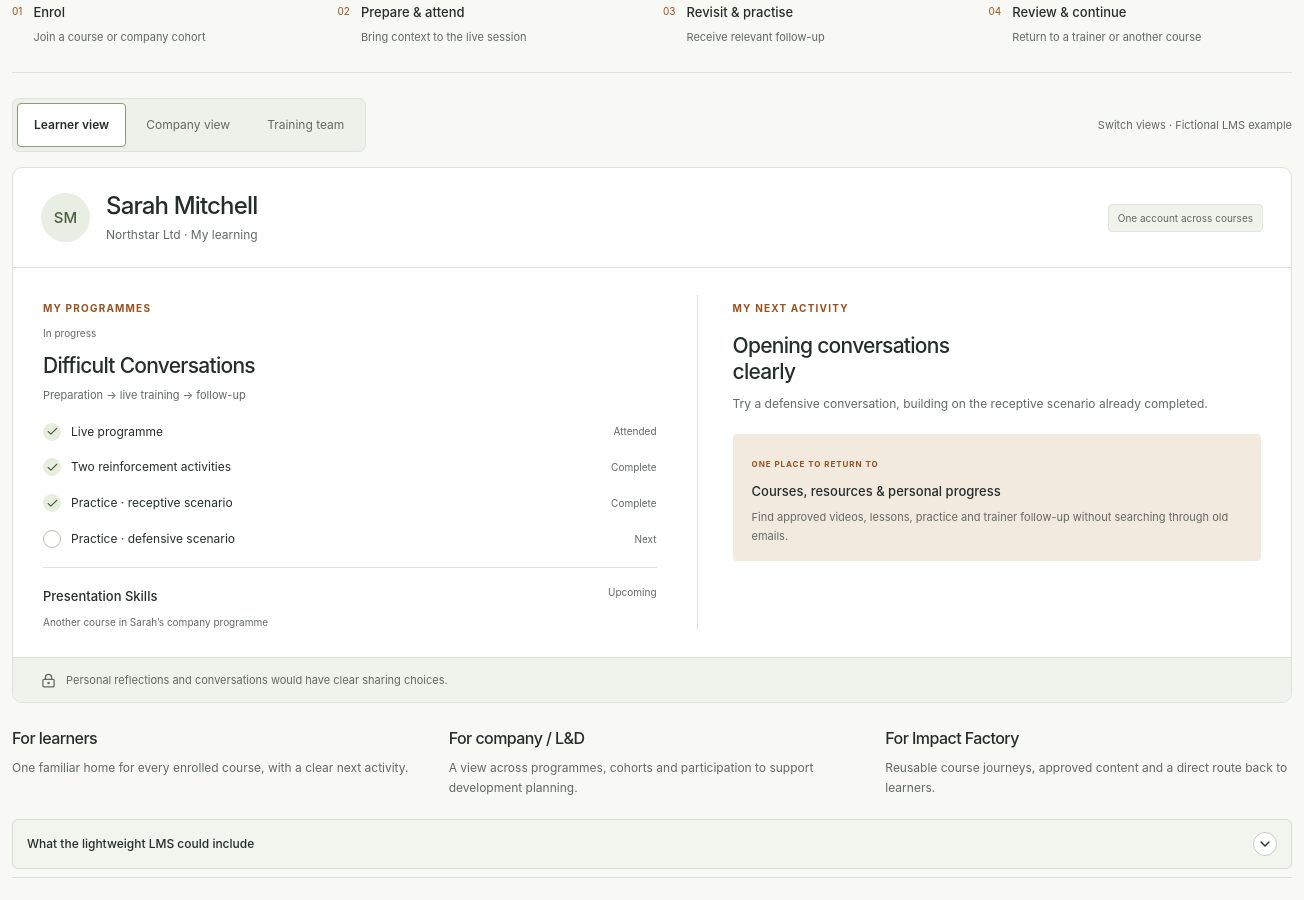
Scenario: filters company participation across programmes without treating enrolments as unique learners
Click the tab "Company view" at coordinates (188, 125), box [129,103,247,147]
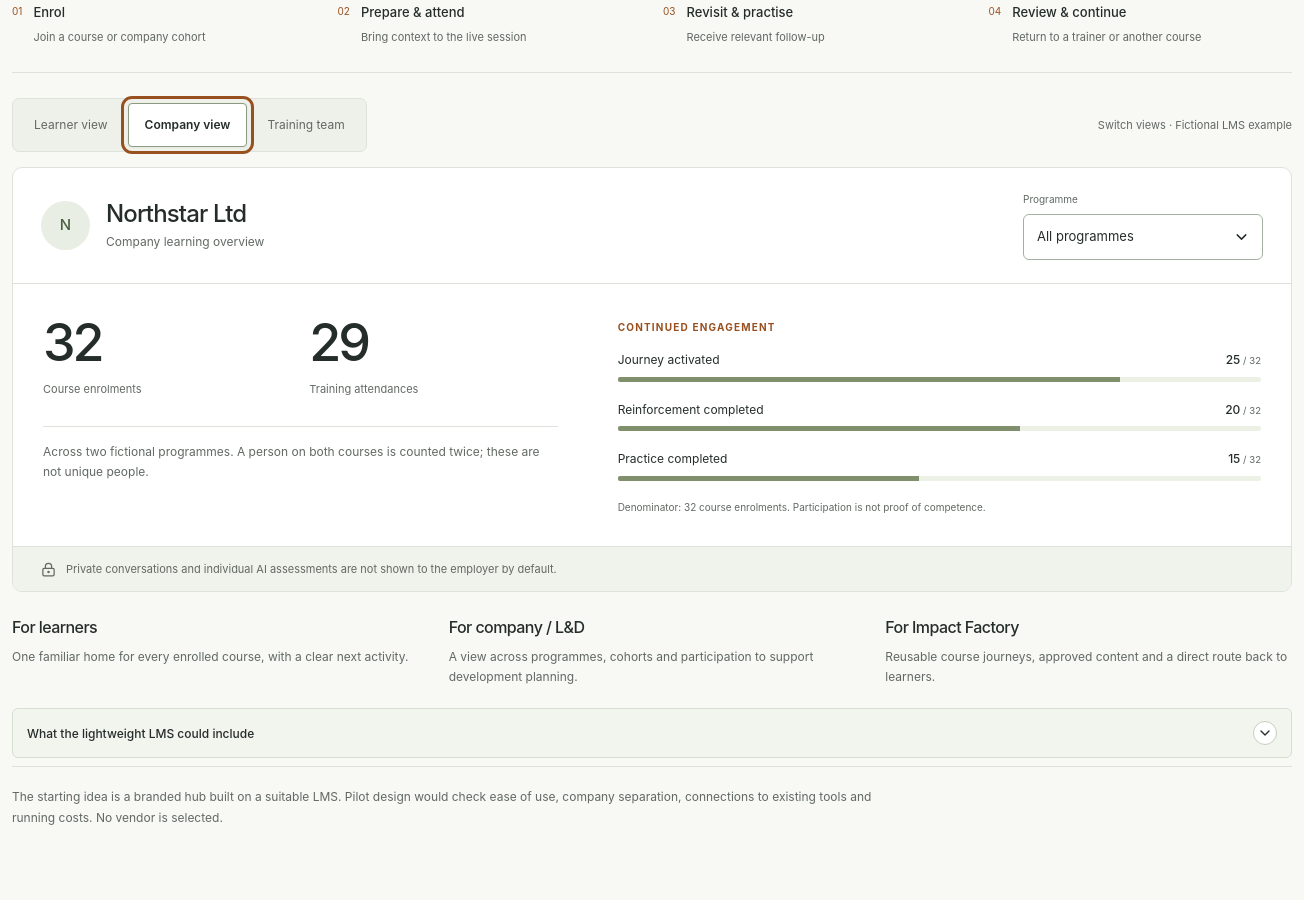
Now the text "32" is shown, box [43,311,101,374]
Now the text "not unique people" is shown, box [43,444,540,479]
Select "Difficult Conversations" in the dropdown labelled "Programme" at coordinates (1143, 237), box [1023,214,1263,260]
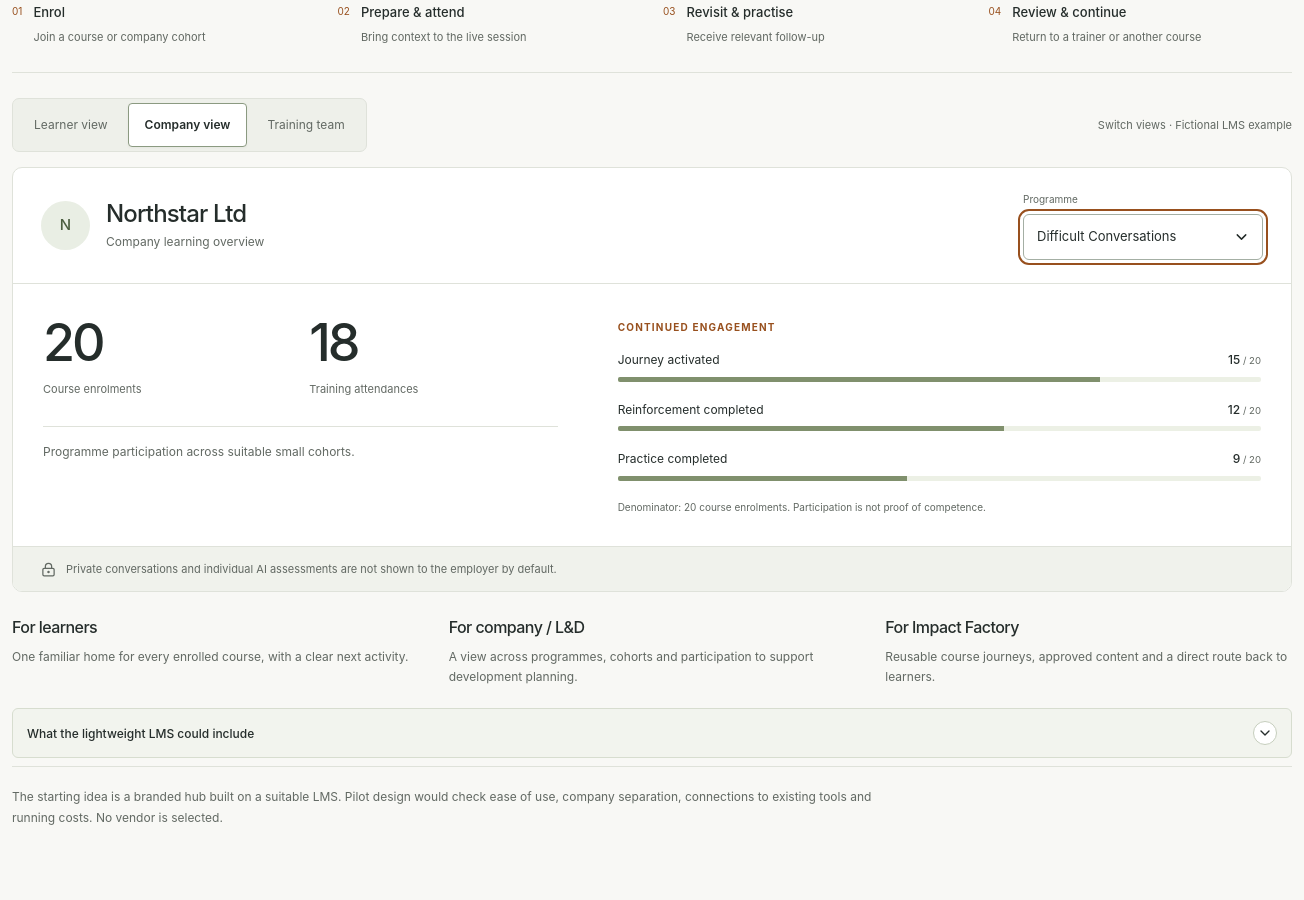
Now the text "20" is shown, box [43,311,102,374]
Now the text "18" is shown, box [309,311,357,374]
Select "Presentation Skills" in the dropdown labelled "Programme" at coordinates (1143, 237), box [1023,214,1263,260]
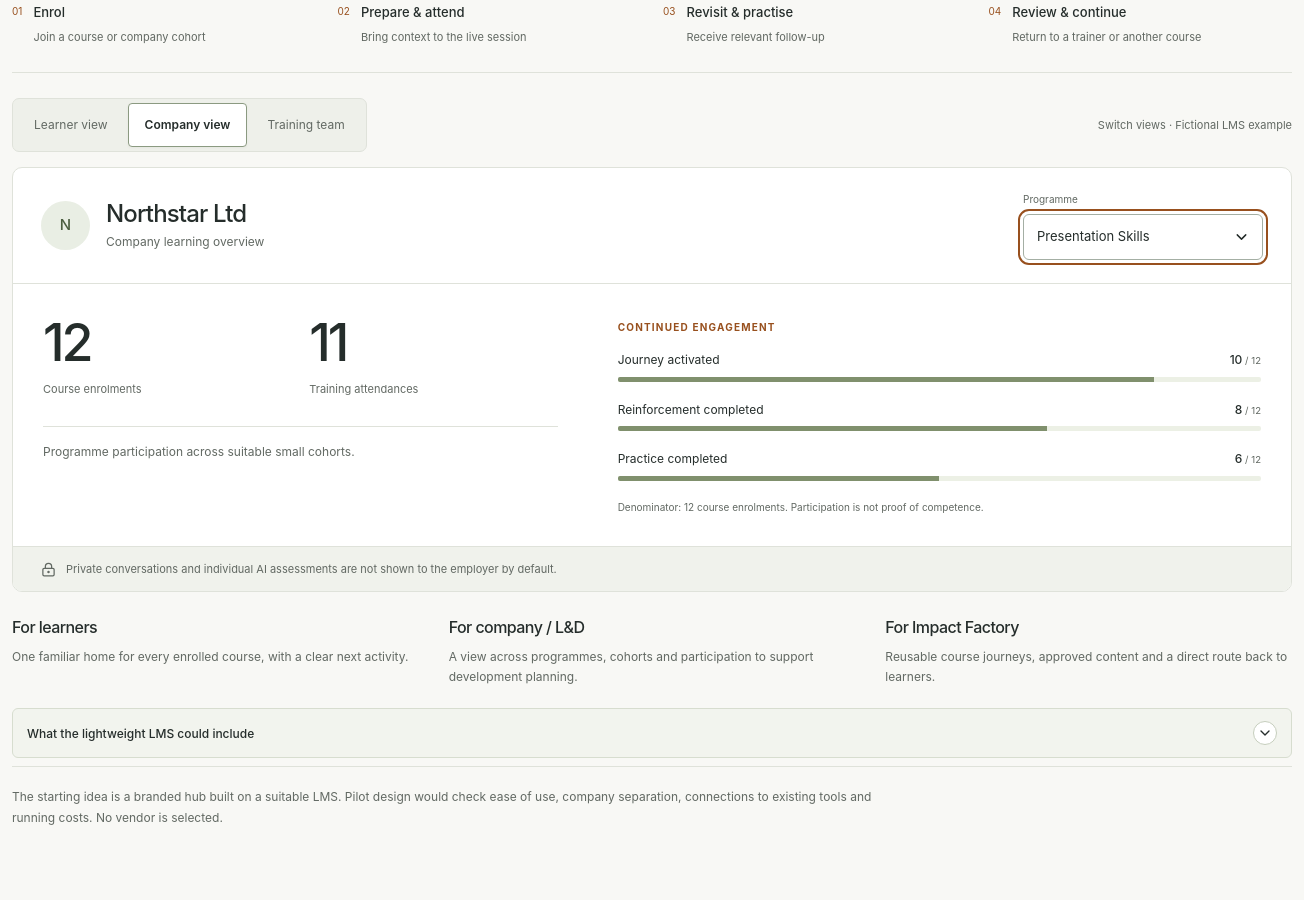
Expected: the heading "Opening conversations clearly" is not shown
Now the text "12" is shown, box [43,311,90,374]
Now the text "11" is shown, box [309,311,346,374]
Click the tab "Training team" at coordinates (306, 125), box [250,103,362,147]
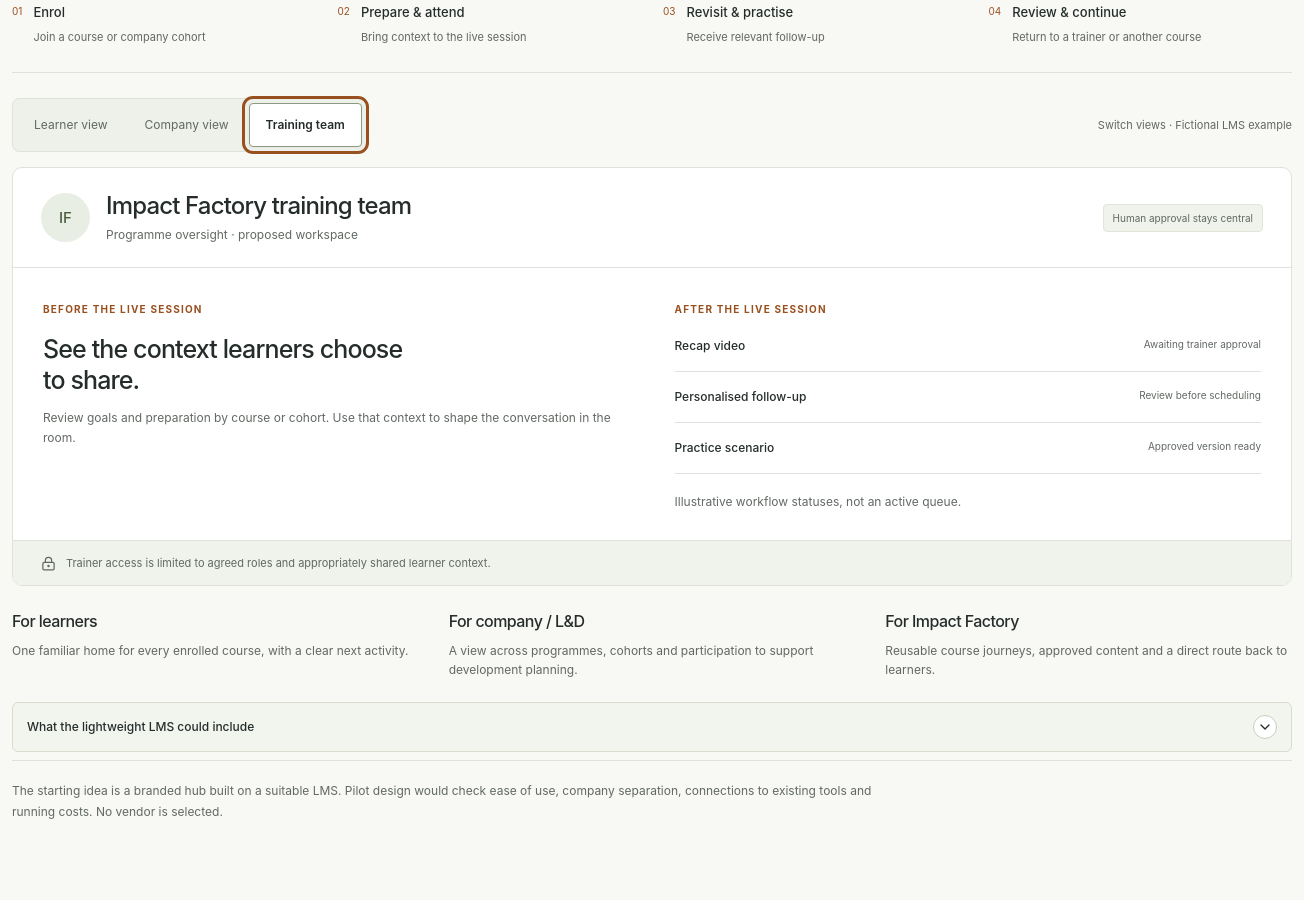
Now the text "Awaiting trainer approval" is shown, box [1144,336,1261,356]
Now the text "appropriately shared learner context" is shown, box [66,556,491,570]
